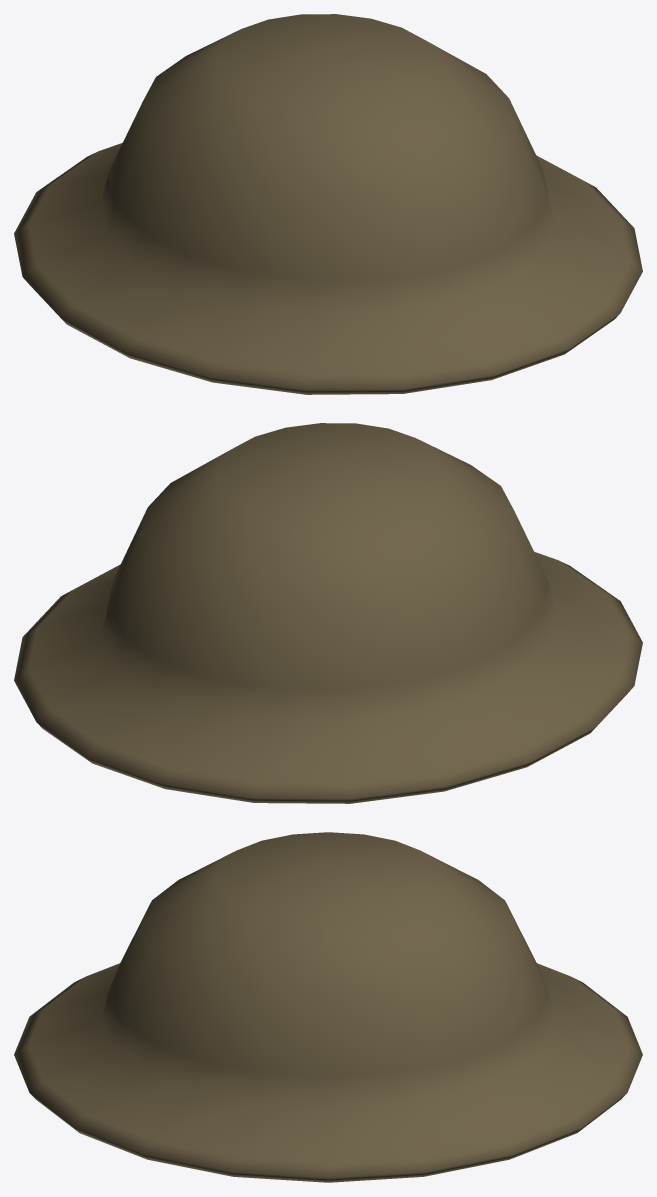
File: tpl_hall_elmetti_brodie_worn.glb
The picture shows the model from 3 angles, top to bottom: view 1: azimuth 30°, elevation 25°; view 2: azimuth 150°, elevation 25°; view 3: azimuth 270°, elevation 25°; orthographic projection. The views are drawn at different scales.
Visible parts, largest first — view 1: tpl_hall_elmetti_brodie_worn; view 2: tpl_hall_elmetti_brodie_worn; view 3: tpl_hall_elmetti_brodie_worn.
Boxes of the visible parts, <box> form: tpl_hall_elmetti_brodie_worn: <box>14,14,642,394</box>; tpl_hall_elmetti_brodie_worn: <box>14,423,642,803</box>; tpl_hall_elmetti_brodie_worn: <box>14,832,642,1182</box>.
Size of the model in its own units: 0.332 by 0.1228 by 0.3586.
